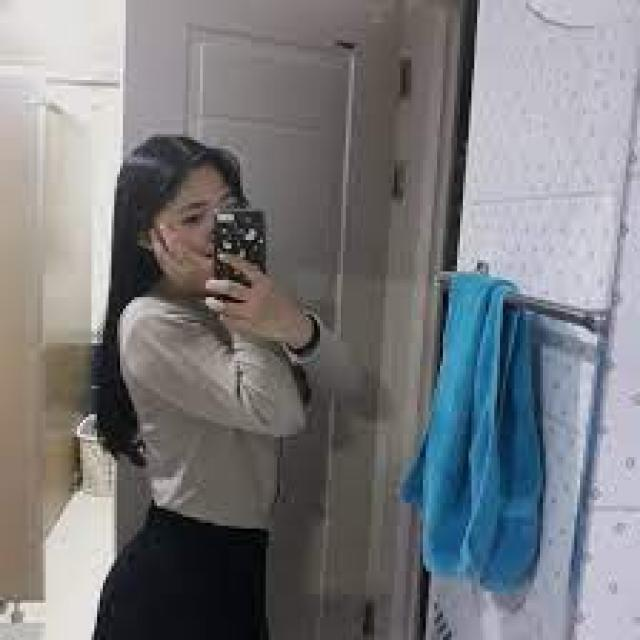Phone: (212, 209, 266, 304)
